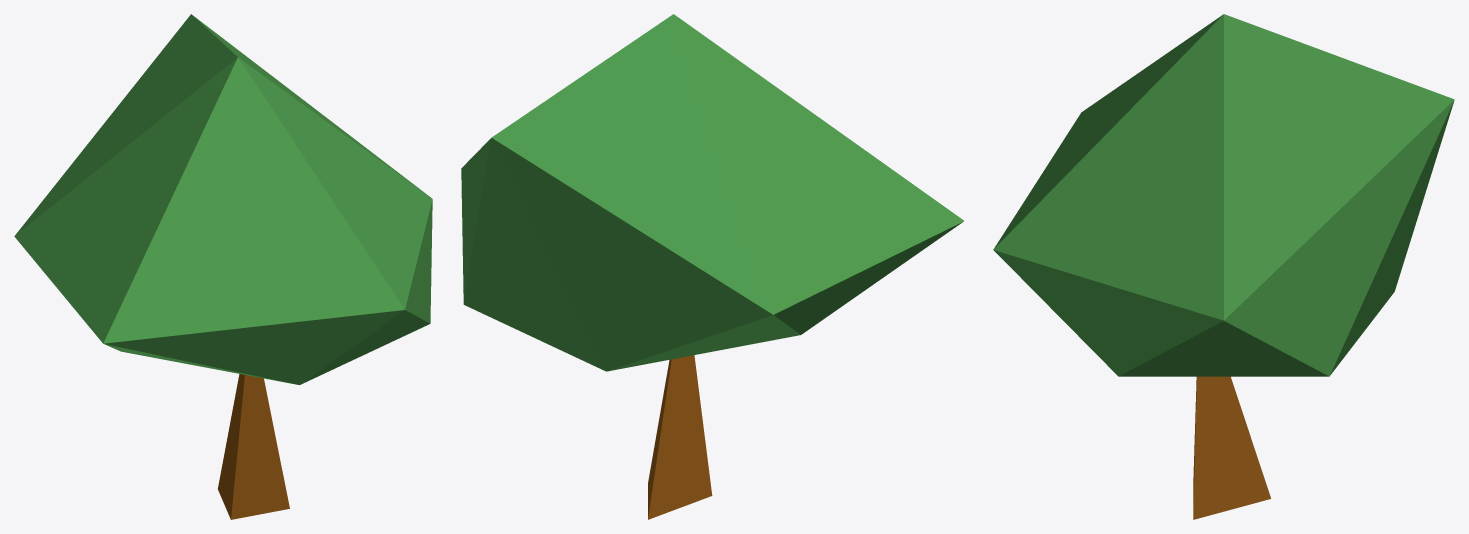
Rendered from Tree_1.fbx.
The picture shows the model from 3 angles, left to right: view 1: azimuth 30°, elevation 25°; view 2: azimuth 150°, elevation 25°; view 3: azimuth 270°, elevation 25°; orthographic projection. The views are drawn at different scales.
Parts seen in each view (by area): view 1: LeafyTree; view 2: LeafyTree; view 3: LeafyTree.
Part boxes in pixels (bbox=[...]): LeafyTree: bbox=[14, 14, 432, 519]; LeafyTree: bbox=[461, 14, 963, 519]; LeafyTree: bbox=[993, 14, 1454, 519].
Size of the model in its own units: 0.5911 by 0.6431 by 0.5535.
